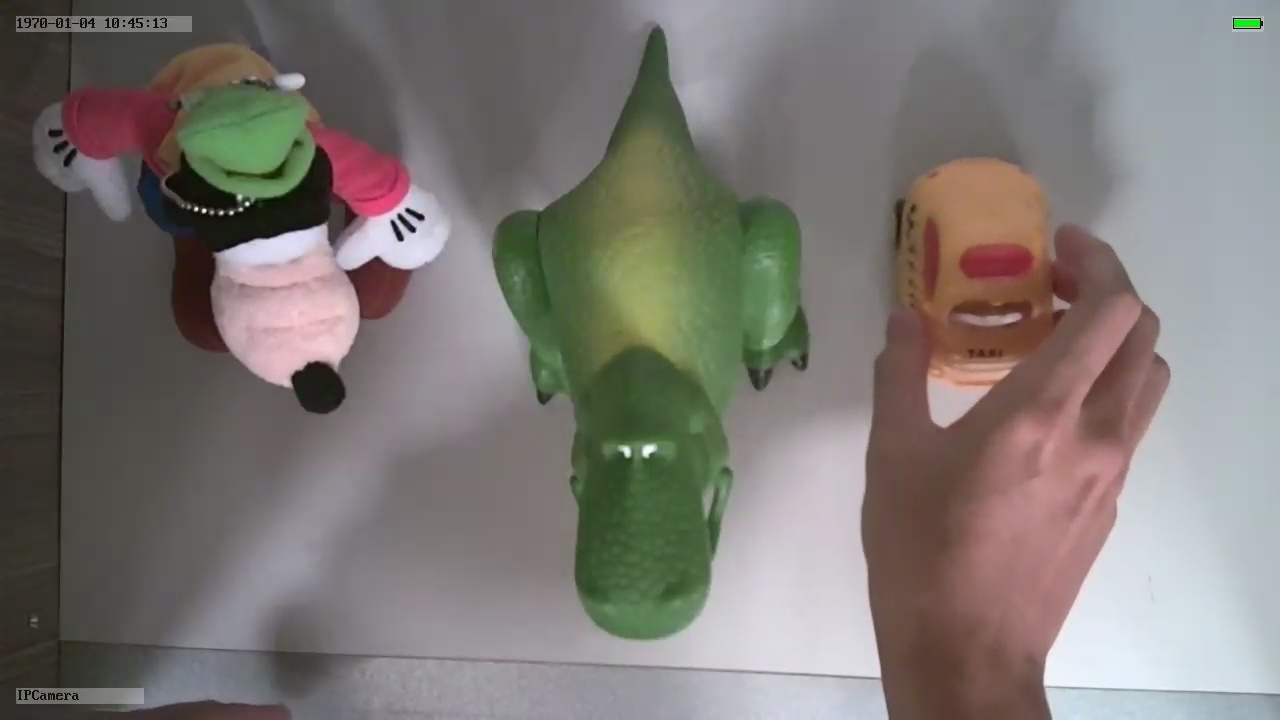goofy: (30, 39, 453, 412)
rex: (491, 102, 813, 638)
